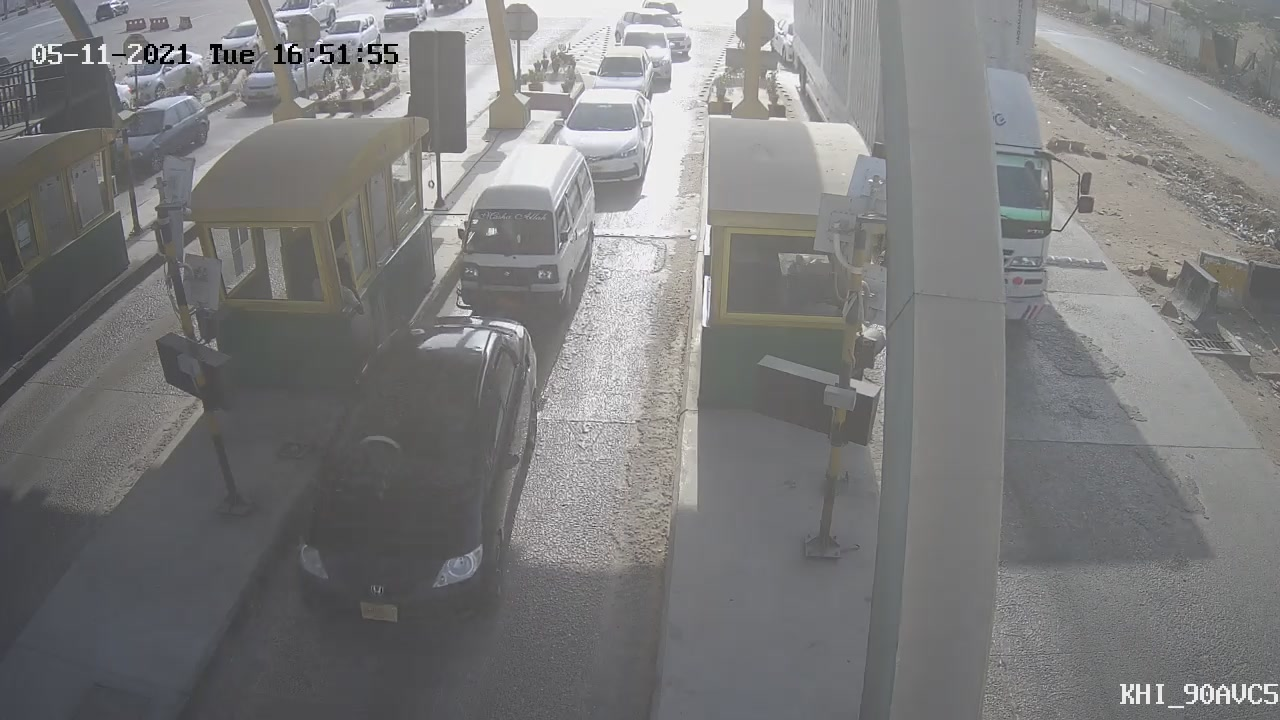F1: (444, 130, 608, 334)
